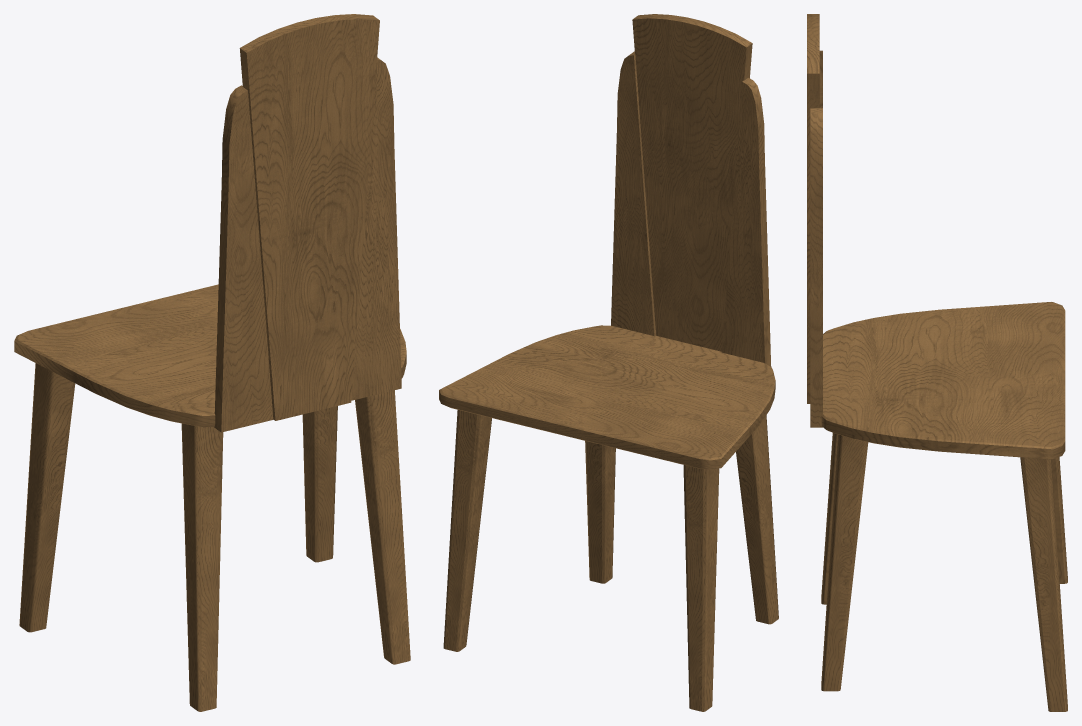
The model's file is chair_B_c01.fbx.
3 views of the same model, side by side, from view 1: azimuth 30°, elevation 25°; view 2: azimuth 150°, elevation 25°; view 3: azimuth 270°, elevation 25° (orthographic). The views are drawn at different scales.
Visible parts, largest first — view 1: chair_B_c01; view 2: chair_B_c01; view 3: chair_B_c01.
Part boxes in pixels (x1=…): chair_B_c01: x1=14, y1=14, x2=410, y2=711; chair_B_c01: x1=439, y1=14, x2=778, y2=711; chair_B_c01: x1=807, y1=14, x2=1067, y2=711.
Bounding box in the file's own units: 49.76 × 96.24 × 37.25.
Materials: 1 (1 with a texture image).
